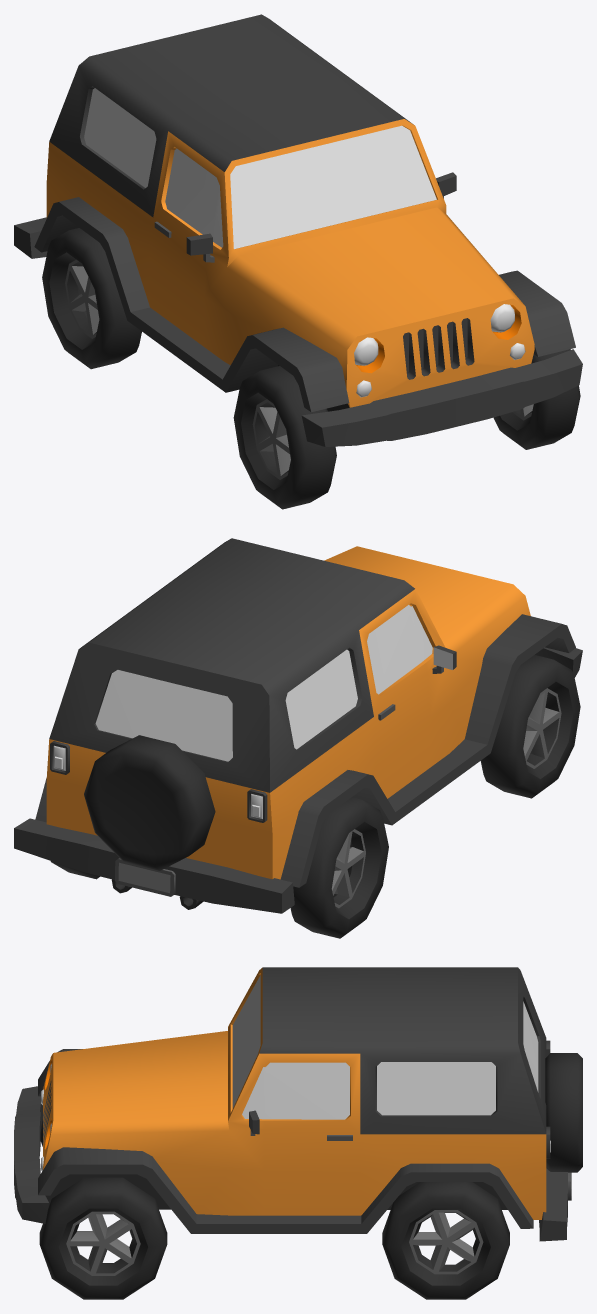
The model's file is jeep.fbx.
3 renders of one model, top to bottom at view 1: azimuth 30°, elevation 25°; view 2: azimuth 150°, elevation 25°; view 3: azimuth 270°, elevation 25°, orthographic. The views are drawn at different scales.
Parts seen in each view (by area): view 1: jeep, wheels.016, wheels.017, wheels.042; view 2: jeep, wheels.016, wheels.017; view 3: jeep, wheels.042, wheels.043.
Part boxes in pixels (box(x1,y1,x2,y2)): jeep: box(14, 14, 582, 446); wheels.016: box(233, 366, 336, 509); wheels.017: box(42, 228, 141, 369); wheels.042: box(493, 349, 580, 449); jeep: box(14, 538, 582, 913); wheels.016: box(480, 655, 580, 798); wheels.017: box(290, 797, 388, 938); jeep: box(14, 967, 582, 1241); wheels.042: box(39, 1177, 167, 1299); wheels.043: box(382, 1182, 509, 1299).
Bounding box in the file's own units: 228 × 203 × 445.
